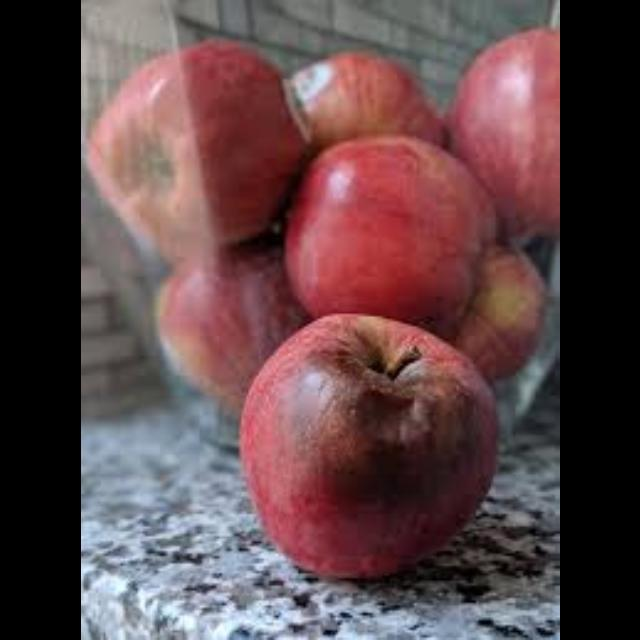Apel Tidak Segar: (231, 302, 531, 592)
